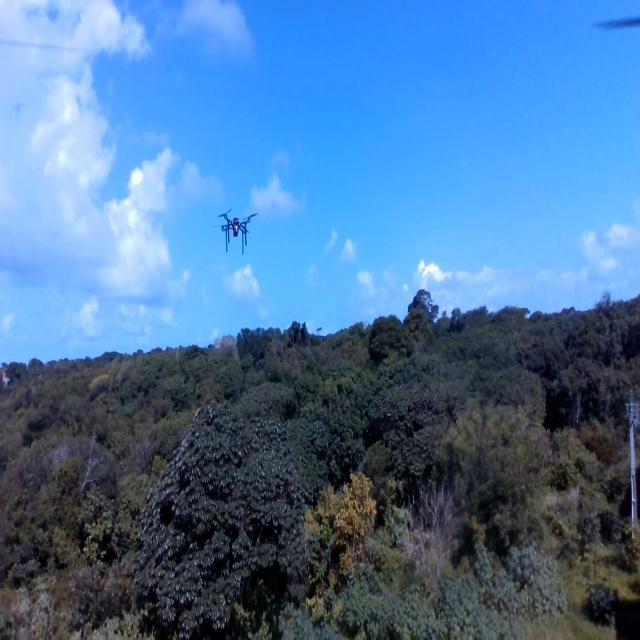-uav-: (214, 202, 264, 265)
